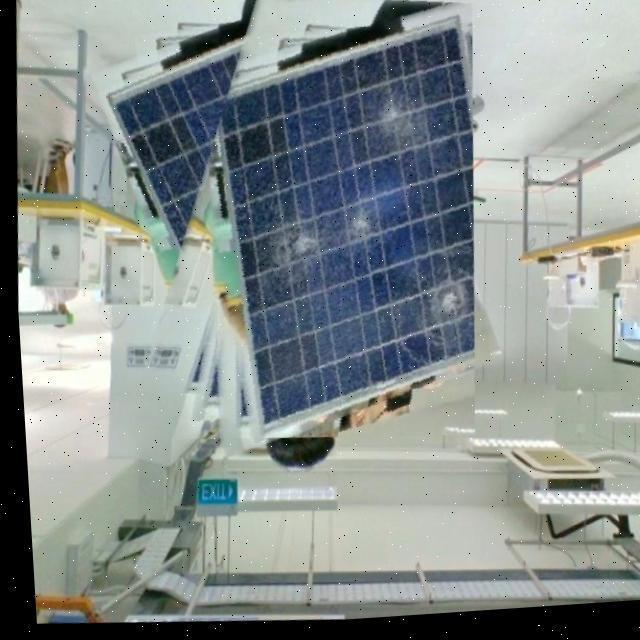Anomaly Solar Panel: (225, 26, 474, 432)
Structural Damage: (252, 199, 386, 300), (353, 91, 452, 171), (391, 274, 481, 352)
